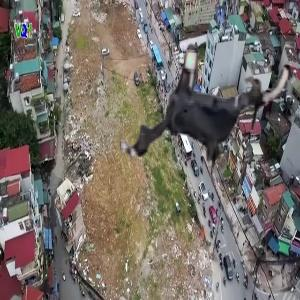drone: (114, 21, 297, 204)
